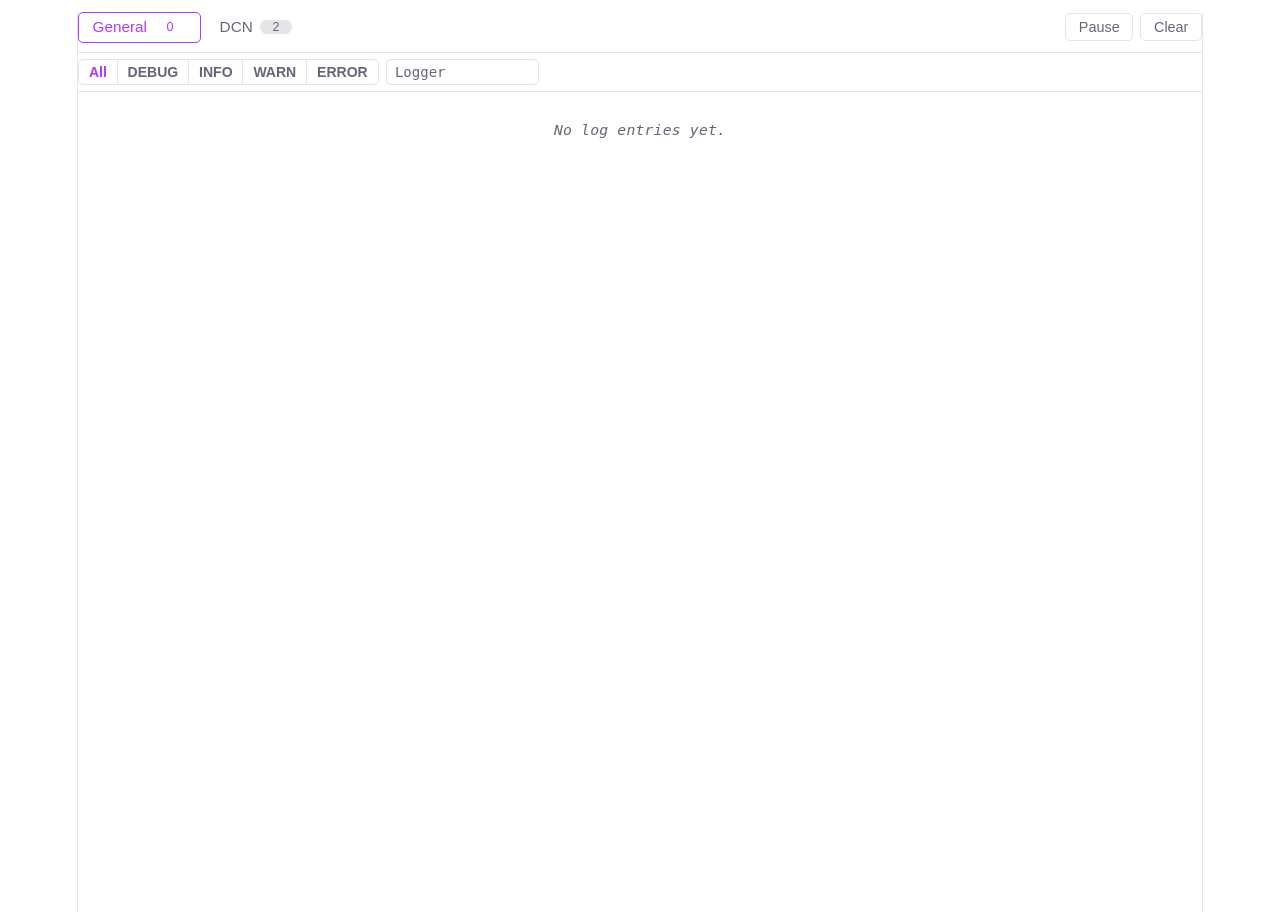
LogView › DCN tab shows rx and tx payloads
Click the button with class "tab" showing "DCN 2": [256, 27] box [205,12,306,43]
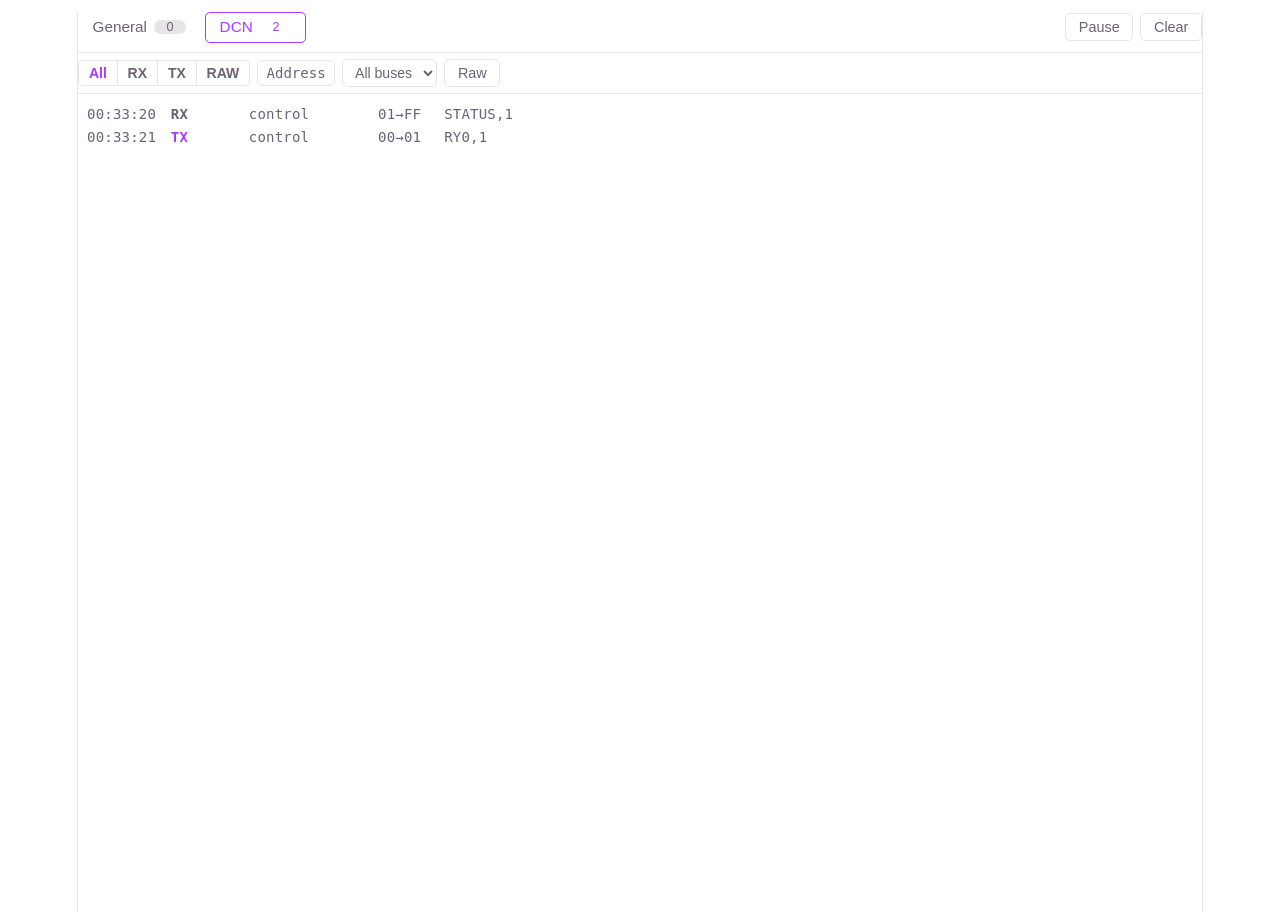
Check: the text "STATUS,1" is shown, box [444,104,513,125]
Check: the text "RY0,1" is shown, box [444,127,487,148]
